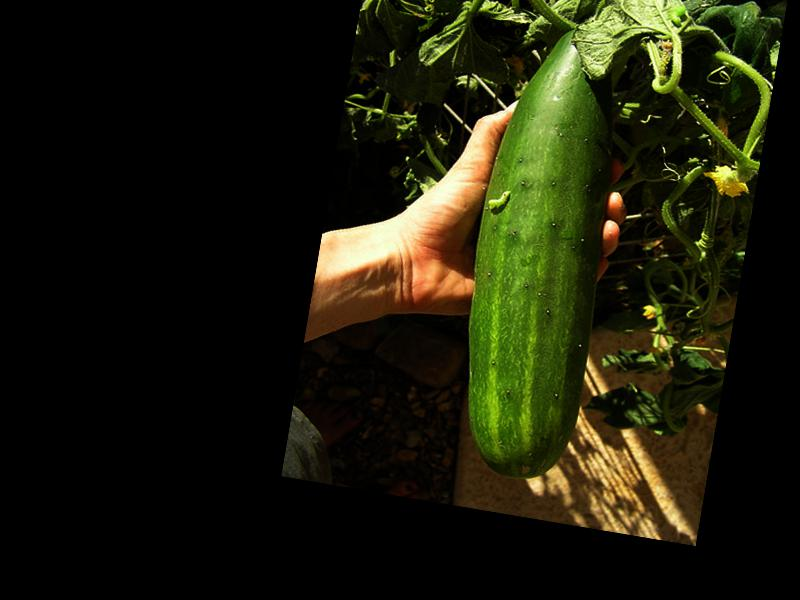Cucumber: (440, 14, 643, 487)
